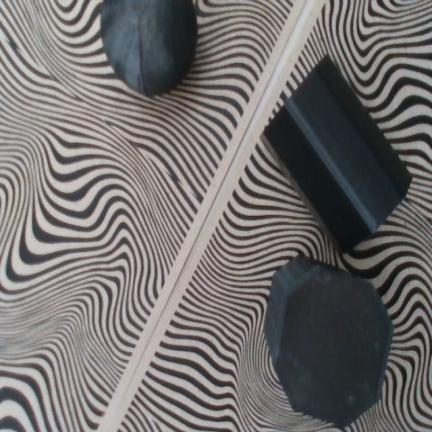Esfera: (101, 0, 197, 96)
Prisma_hexagonal: (264, 56, 413, 252), (264, 256, 395, 429)
